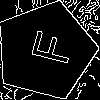F: (21, 26, 75, 67)
